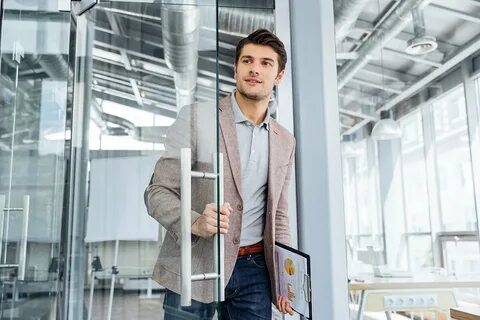awake: (142, 27, 298, 320)
